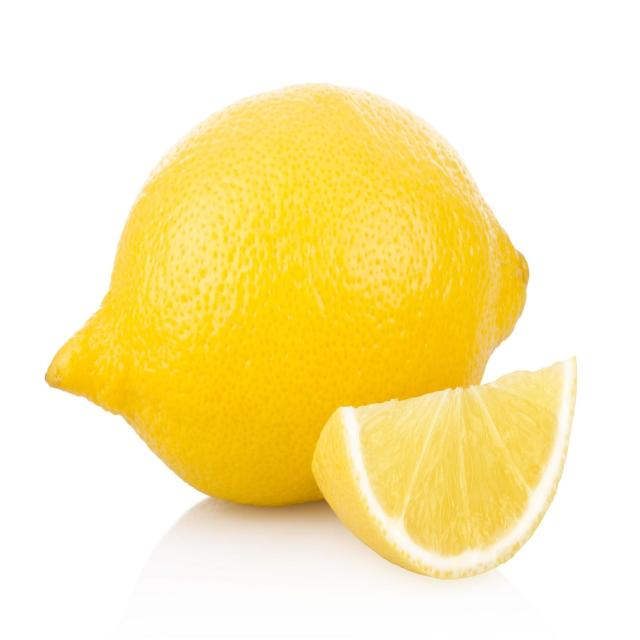lemon: (38, 76, 534, 515), (306, 349, 582, 582)
